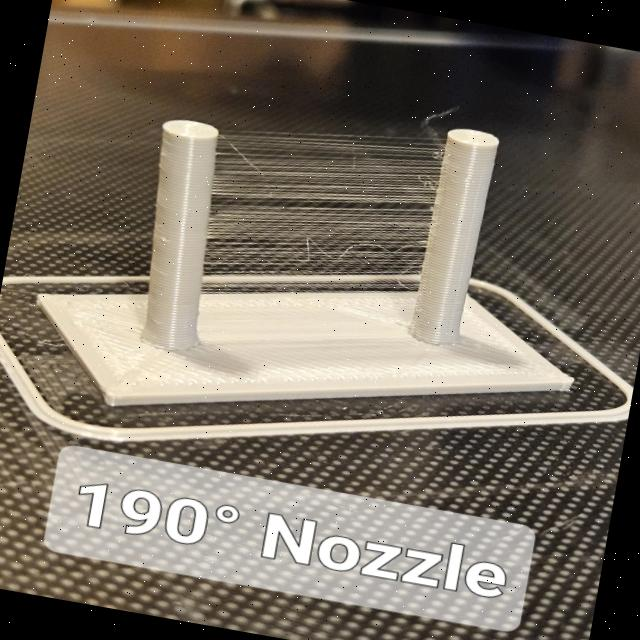stringing: (211, 136, 442, 278)
